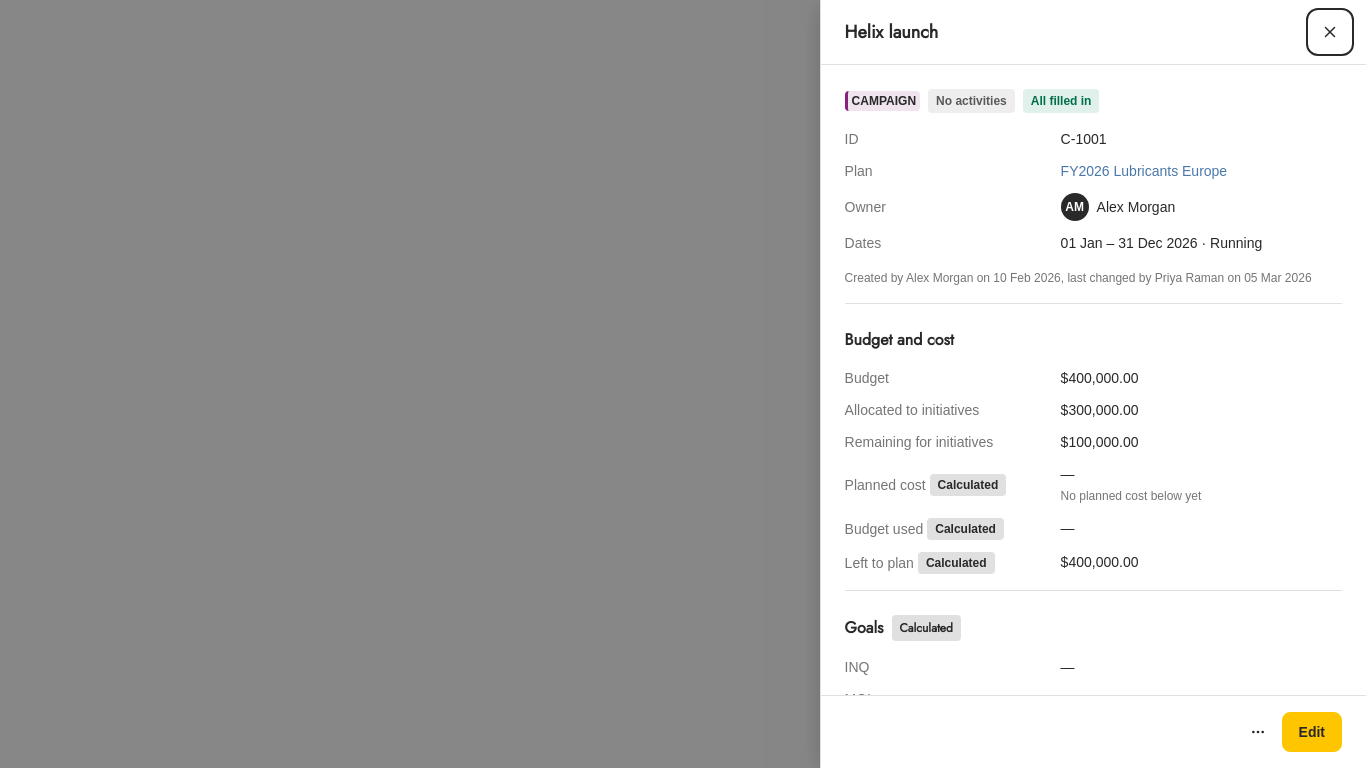
it: CampaignPanel — Delete, Move to… and Copy (feature 005, US5, US6) › copies from More (US6, FR-026)
This screenshot has width=1366, height=768.
Click the button named "Actions for Helix launch". click: (1258, 732)
box: [1242,716,1274,748]
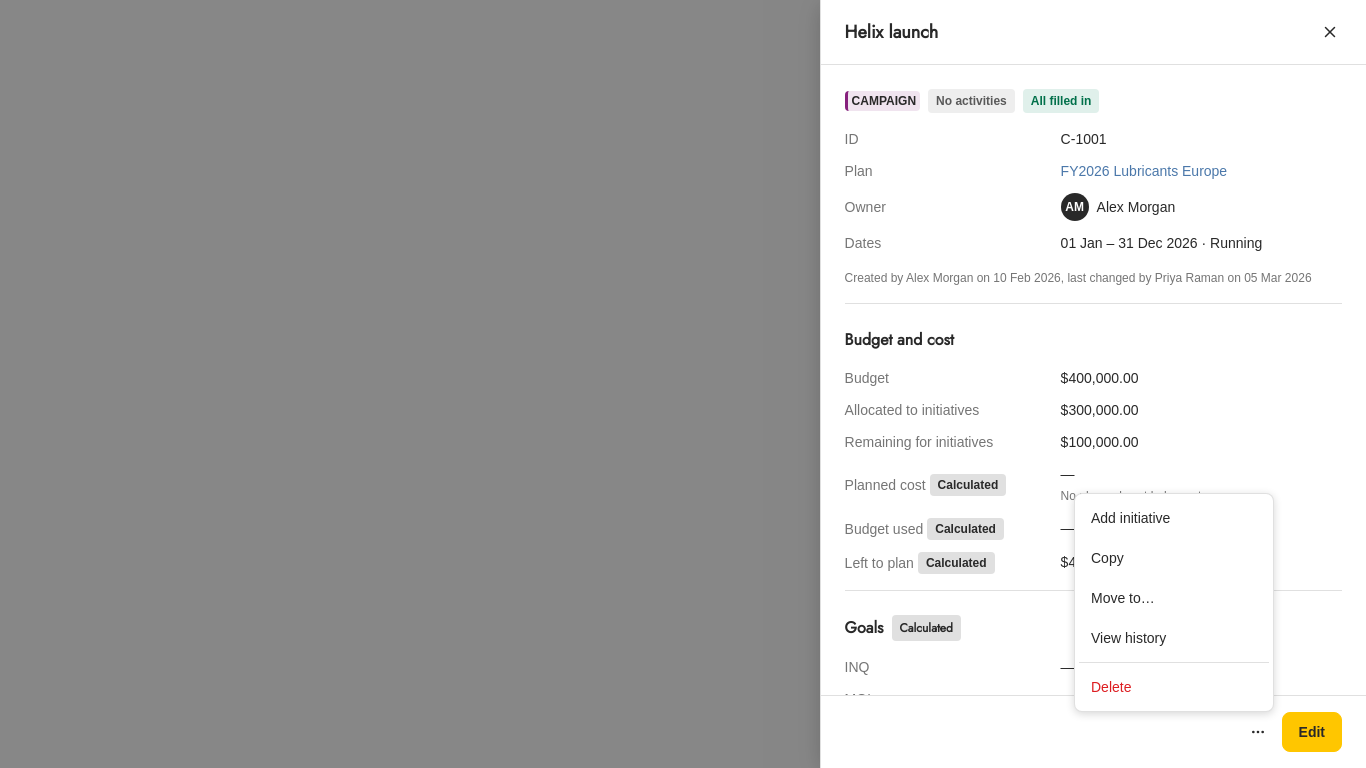
Click the menu item "Copy". click: (1107, 558)
box: [1091,550,1124,566]
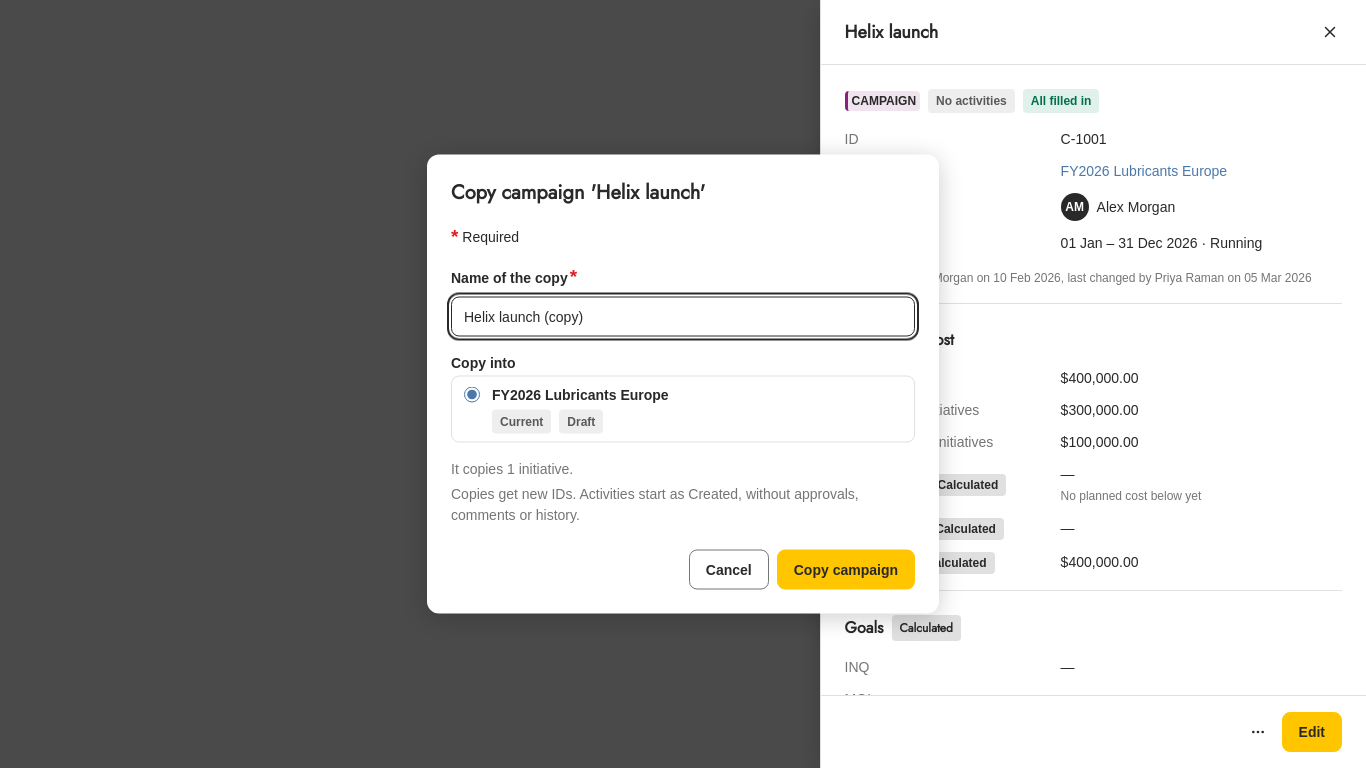
Expected: the field labelled "Name of the copy" holds "Helix launch (copy)", [451,296,915,336]
Expected: the dialog "Copy campaign 'Helix launch'" shows "It copies 1 initiative.", [451,460,573,476]
